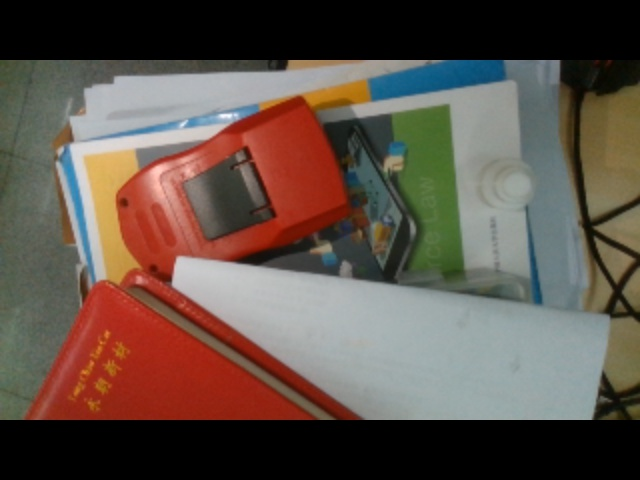Multimeter: (113, 94, 351, 279)
Screw holes: (120, 198, 130, 209), (148, 264, 159, 274)
